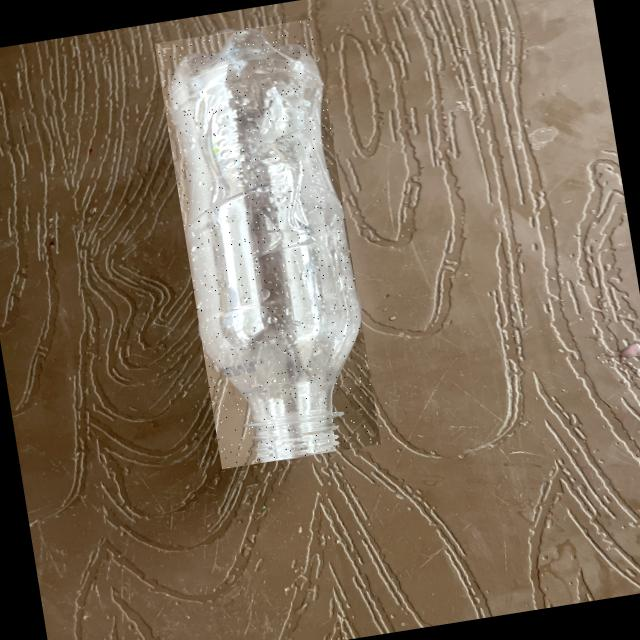PET_With_Liquid: (170, 30, 359, 461)
